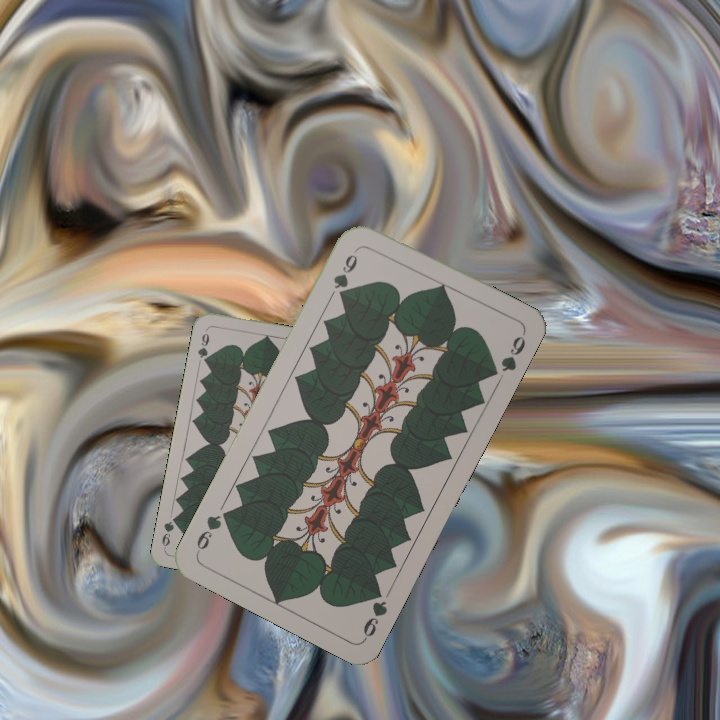G9: (329, 244, 362, 302), (359, 582, 390, 642), (194, 325, 212, 366)
